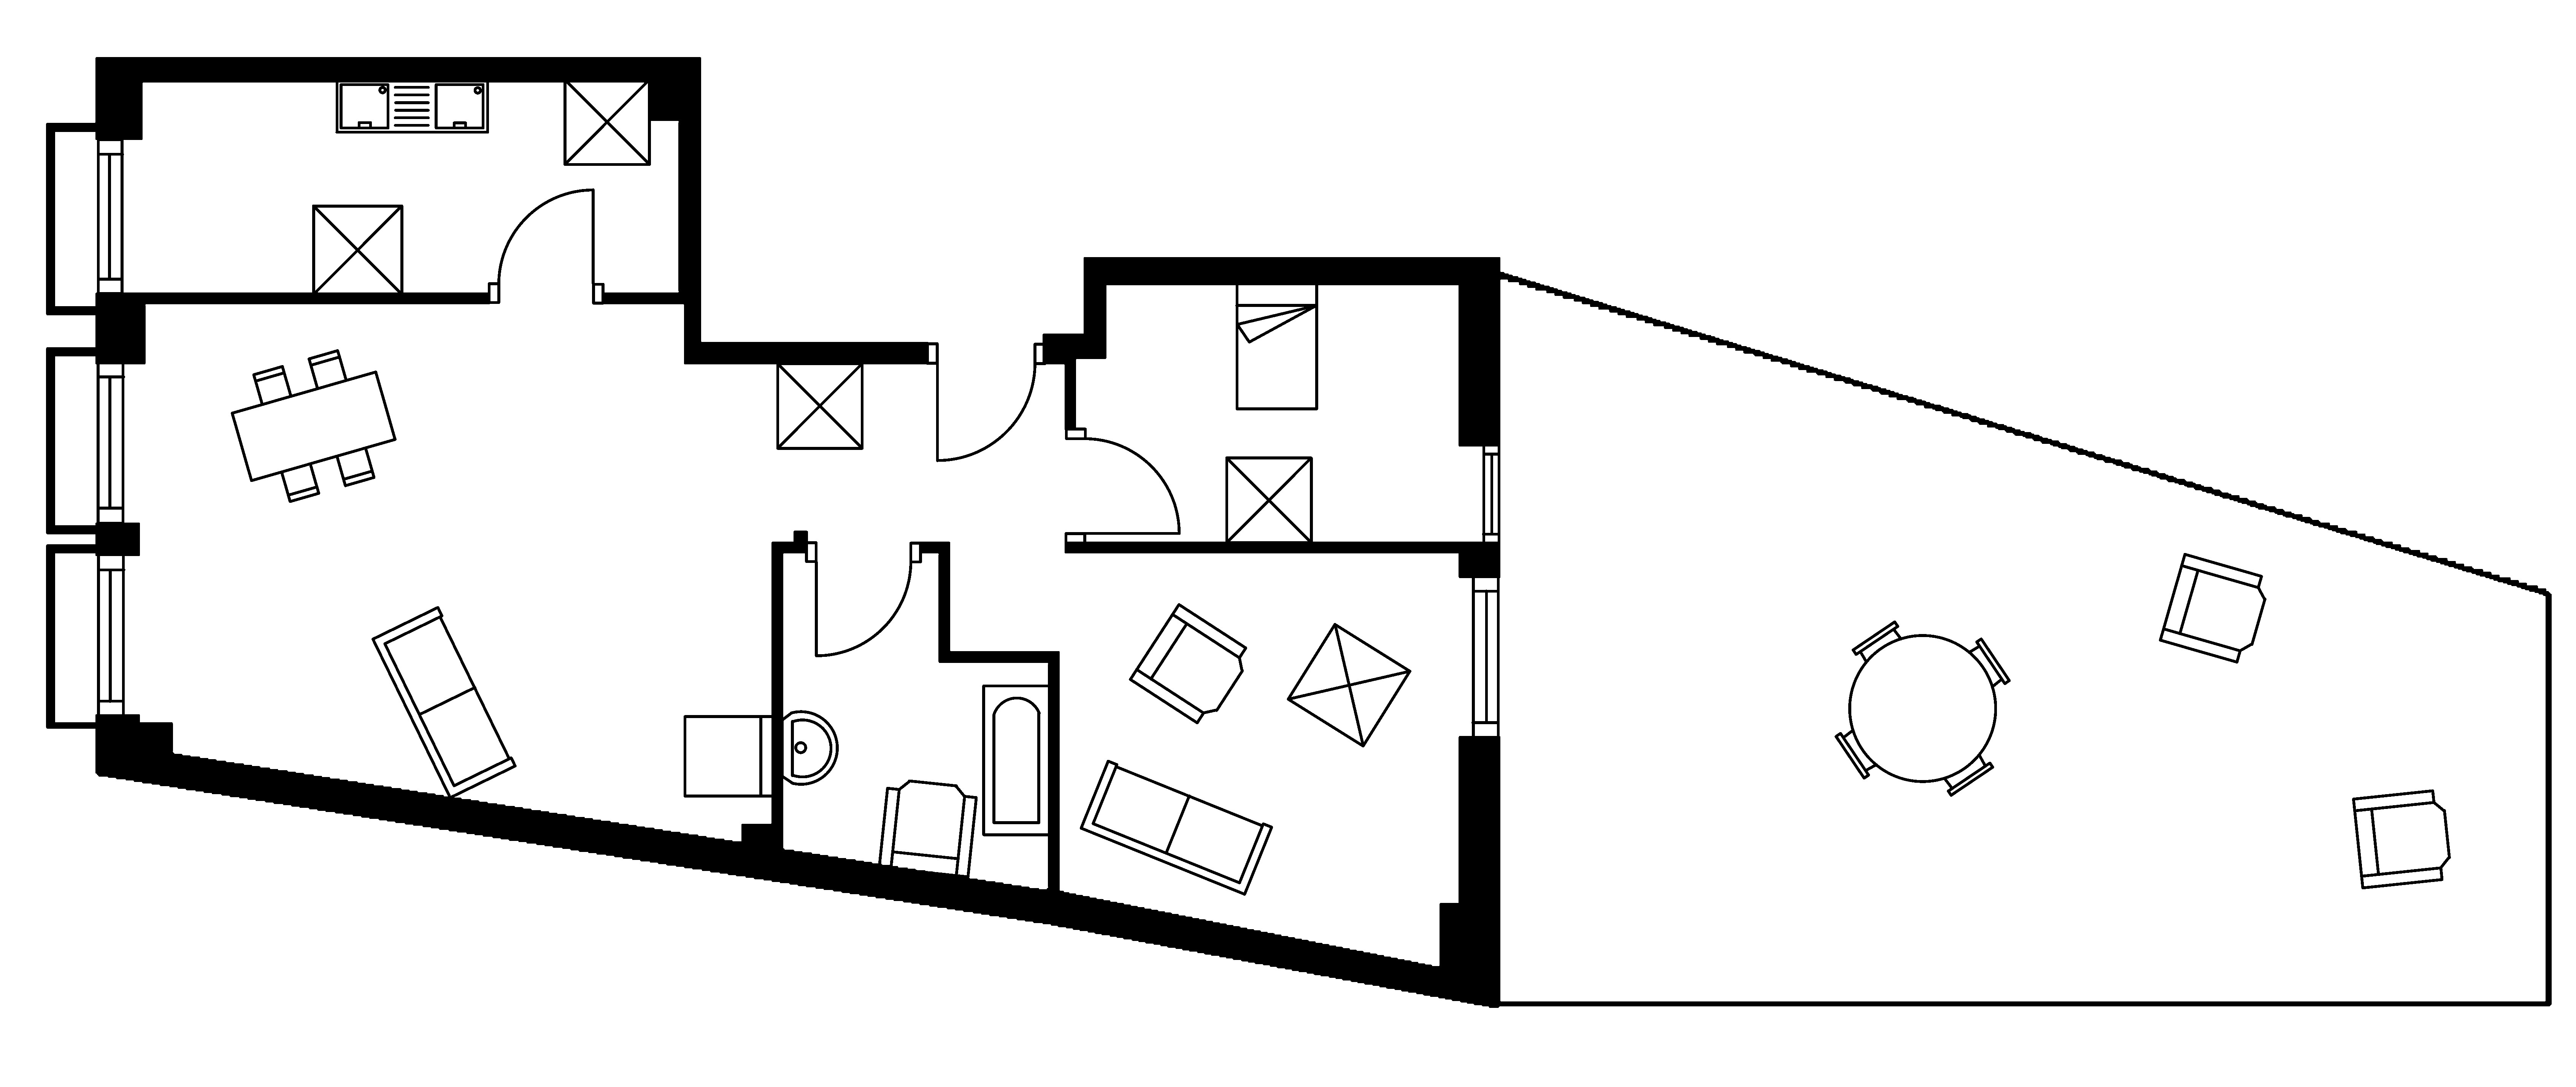armchair: (1129, 602, 1247, 725), (2159, 553, 2267, 664), (2351, 788, 2451, 890), (877, 778, 977, 878)
bed: (1234, 281, 1319, 411)
coffee_table: (1286, 622, 1411, 748), (310, 204, 404, 296), (562, 77, 651, 166), (775, 362, 864, 451), (1224, 456, 1313, 544)
dining_table: (230, 349, 396, 503)
large_sofa: (371, 605, 517, 799), (1079, 758, 1273, 896)
round_table: (1833, 620, 2011, 798)
small_sink: (780, 710, 838, 786)
small_sofa: (682, 714, 774, 798)
tub: (981, 684, 1051, 837)
twin_sink: (333, 77, 490, 133)
